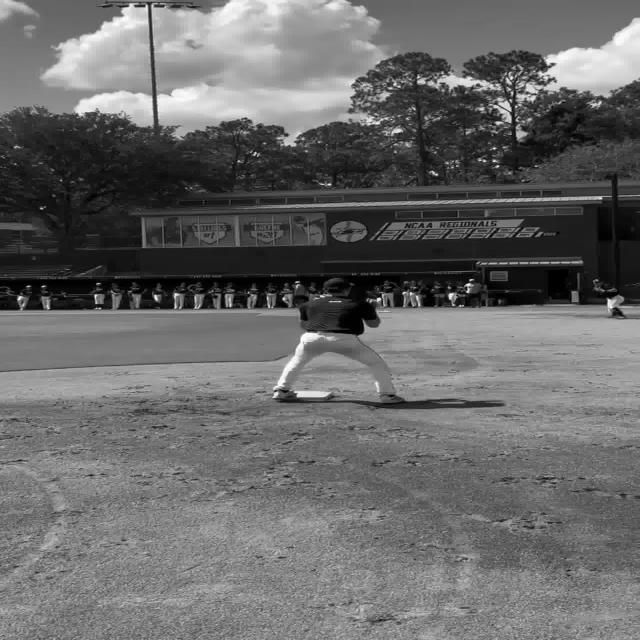base: (296, 390, 333, 401)
shoe: (271, 388, 298, 401), (378, 394, 405, 405)
